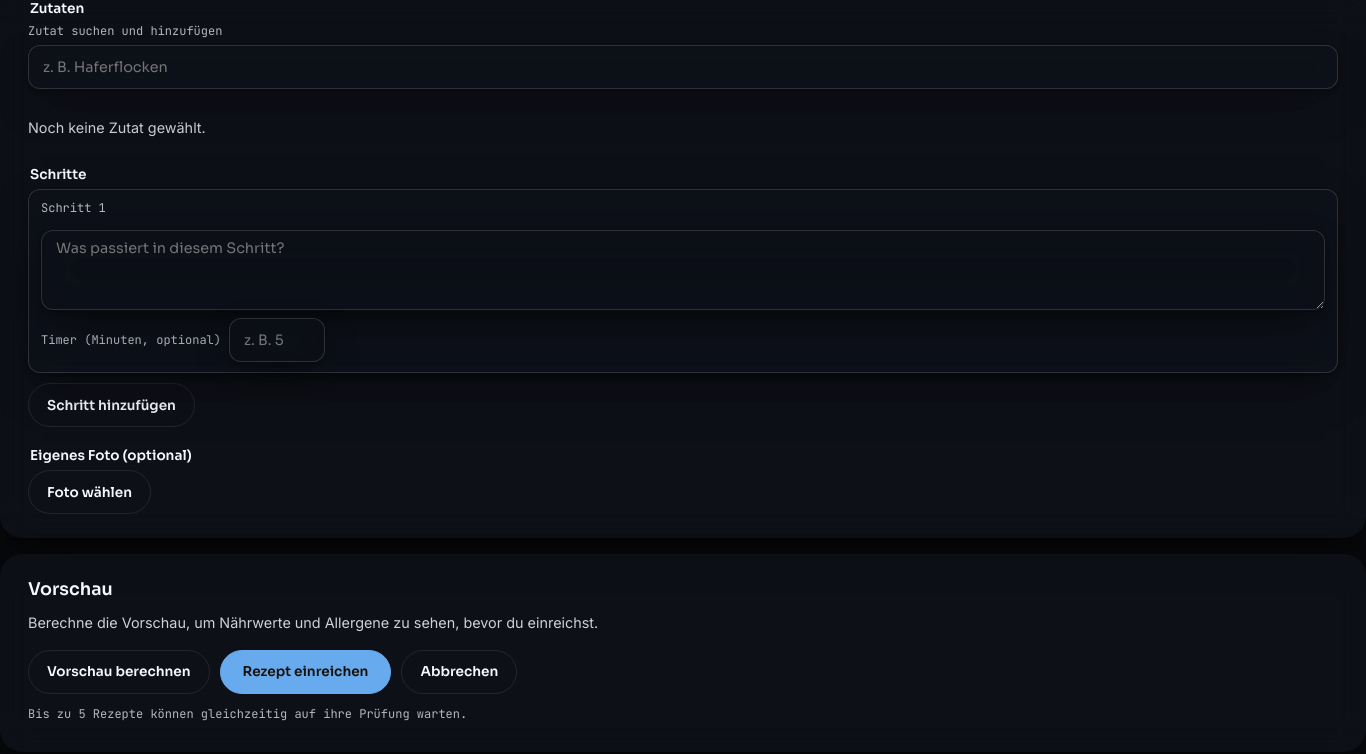
Scenario: RecipeSubmissionForm › zeigt Formularfehler (422) am Feld und setzt aria-invalid
(page scrolled)
Step 1. Click the button "Rezept einreichen" → (305, 672), box [220, 650, 391, 694]
(page scrolled)
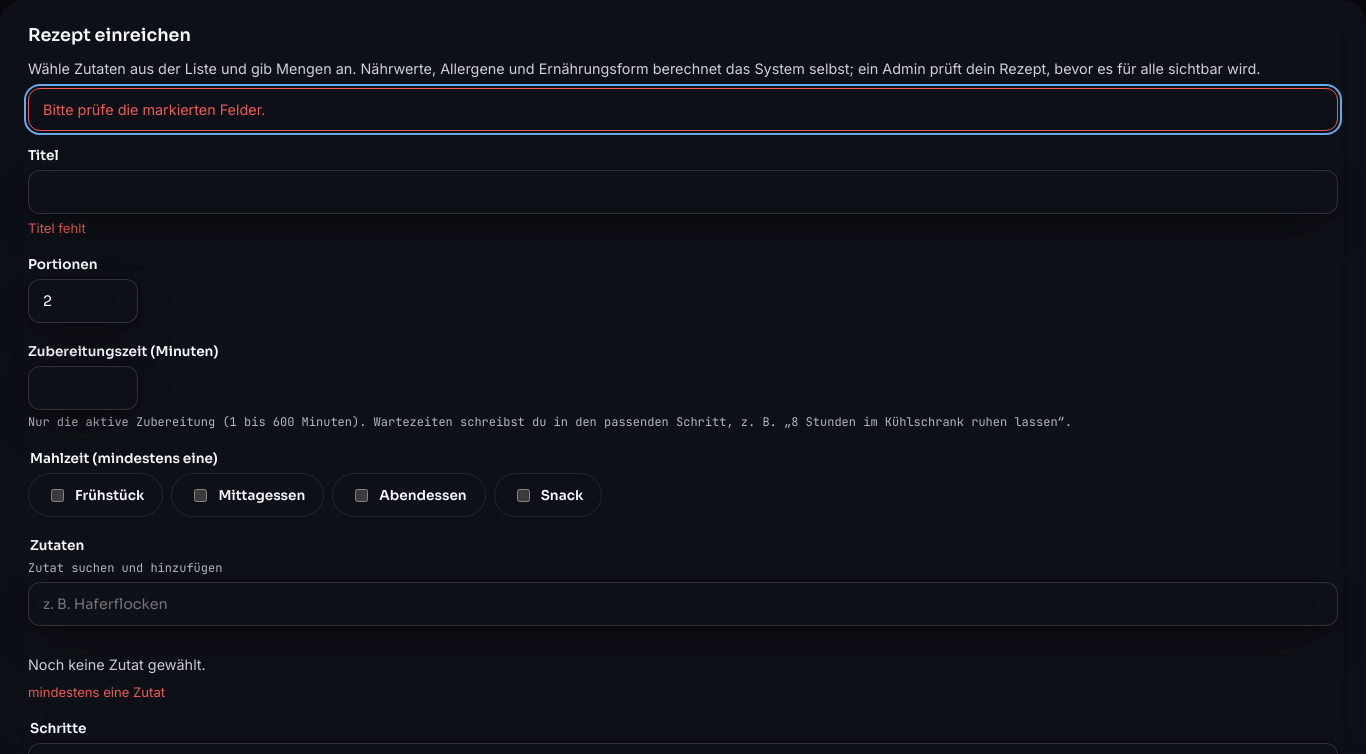
Expected: the text "Titel fehlt" is shown, [28, 220, 86, 236]
Expected: the text "mindestens eine Zutat" is shown, [28, 684, 165, 700]
Expected: the message "Bitte prüfe die markierten Felder." is shown, [28, 88, 1338, 131]
